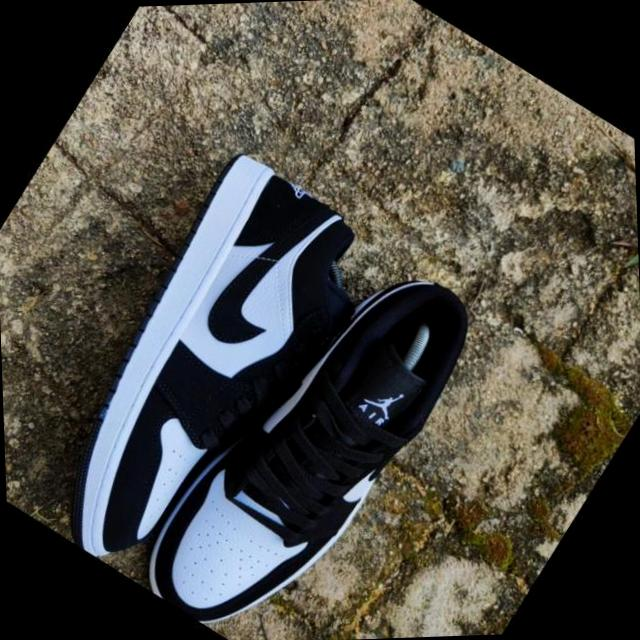nike_fake_jordan: (0, 141, 414, 614), (123, 221, 511, 640)
